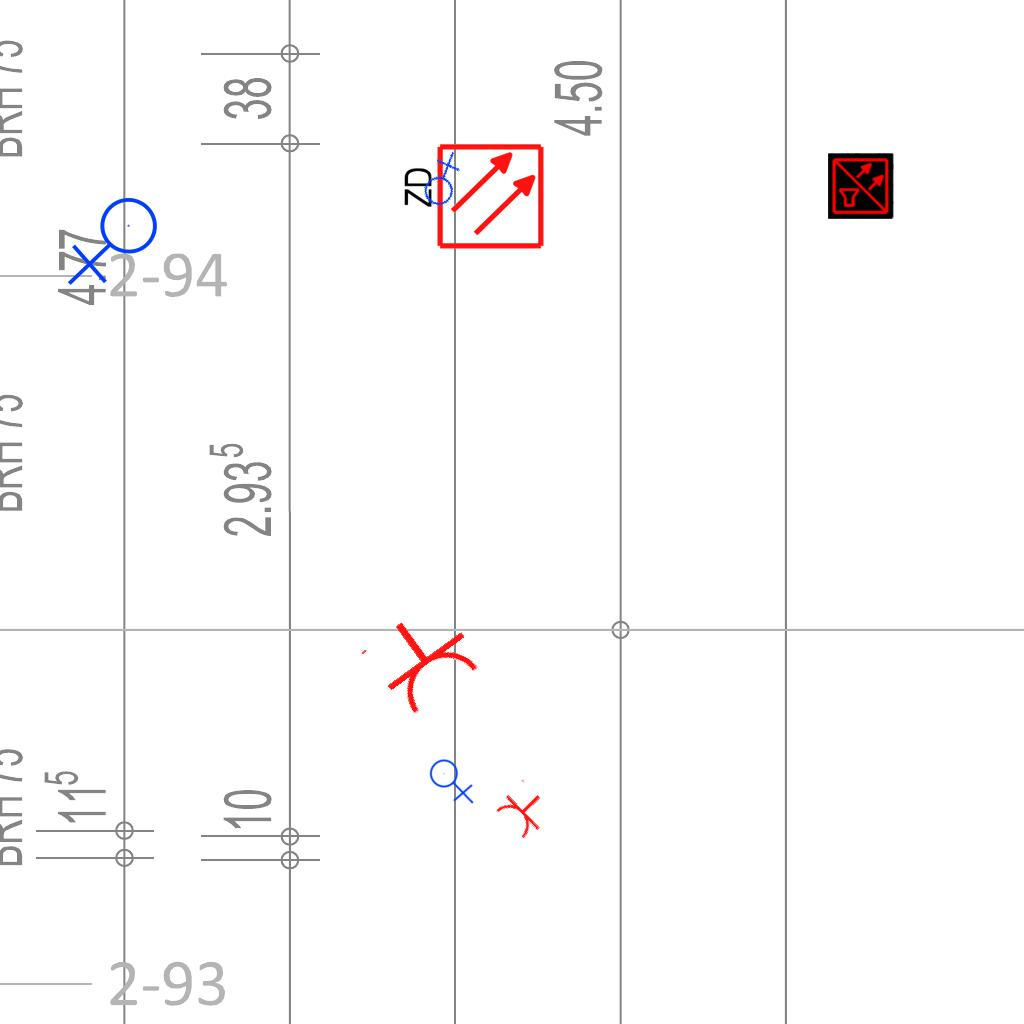Elektroanschluss_allgemein_230V_Geraeteanschlussdose_230V: (67, 196, 166, 290), (408, 148, 473, 213), (429, 755, 476, 804)
OKW_Multisensormelder_(Kombination_optischer_Rauch-Kahlenmonoxid_Waerme-Melder): (828, 153, 894, 219)
Schukosteckdose_einfach: (355, 594, 488, 724), (490, 777, 557, 843)
ZD_Melder_in_Zwischendecke_mit_Revisionsoeffnung_mind_40_x_40_cm: (397, 141, 546, 255)
